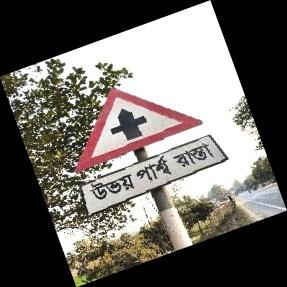Crossroad: (74, 87, 220, 252)
